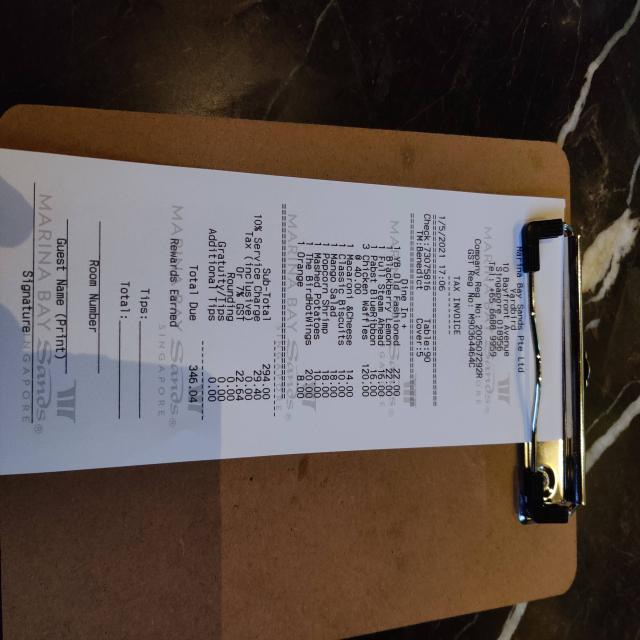bill_region: (185, 192, 401, 406)
